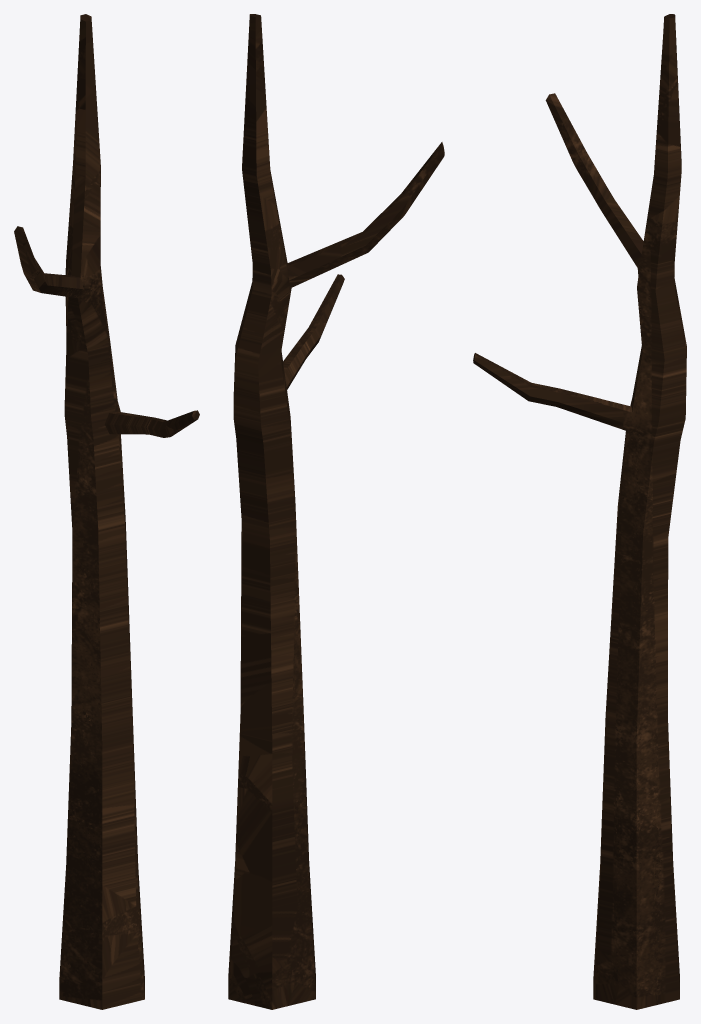
File: Tree_01_Nude.fbx
The picture shows the model from 3 angles, left to right: view 1: azimuth 30°, elevation 25°; view 2: azimuth 150°, elevation 25°; view 3: azimuth 270°, elevation 25°; orthographic projection. The views are drawn at different scales.
Visible parts, largest first — view 1: A1; view 2: A1; view 3: A1.
Part boxes in pixels (box(x1,y1,x2,y2)): A1: box(14, 14, 199, 1009); A1: box(228, 14, 444, 1009); A1: box(473, 14, 686, 1009).
Bounding box in the file's own units: 6.53 × 35.26 × 7.02.
